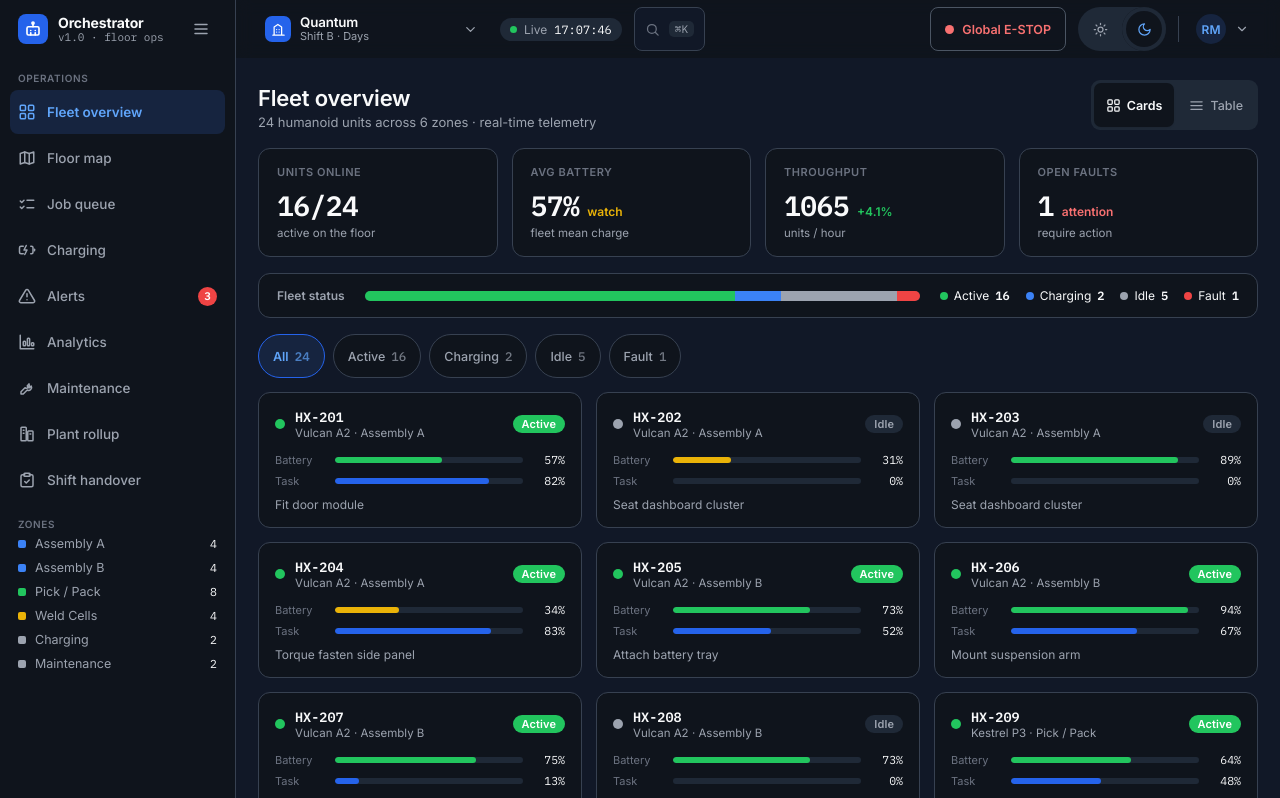
Test: navigation › sidebar "Charging" shows the Charging & docks screen
Click the button "Charging".
click(118, 250)  # box [10,228,225,272]
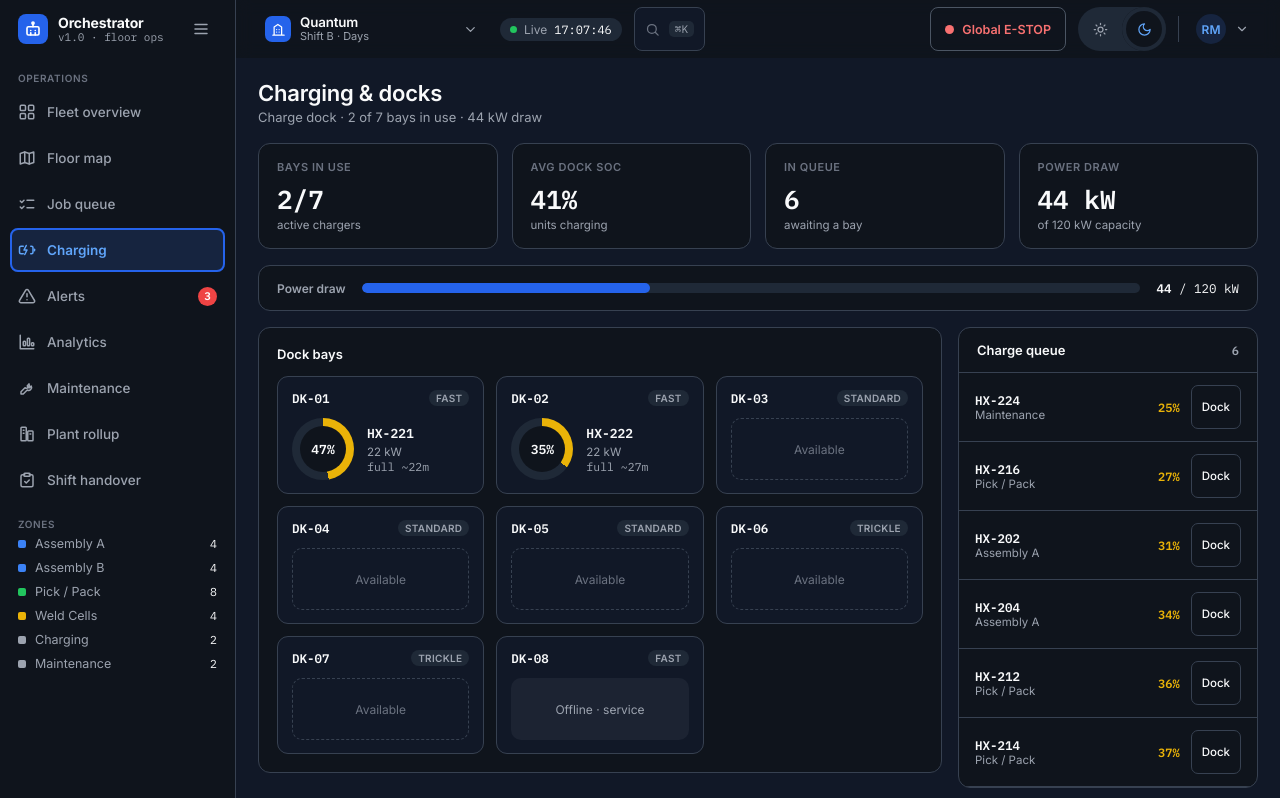
Now the heading "Charging & docks" is shown, box [258,80,442,106]
